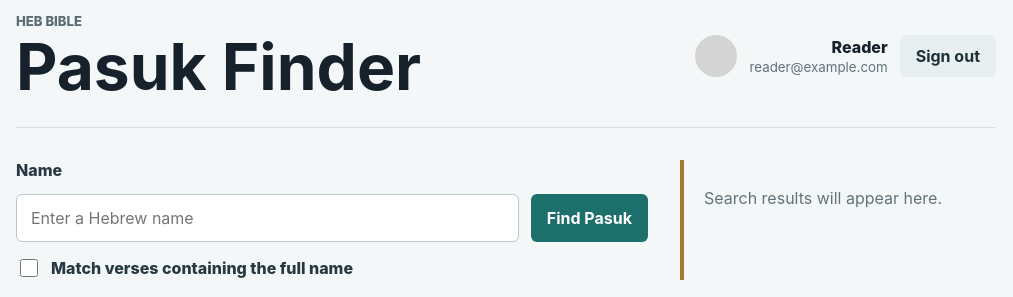
Test: App › shows the authenticated user and signs out
The width and height of the screenshot is (1013, 297).
Click the button with class "secondary-button". click: (948, 56)
box: [900,35,996,77]
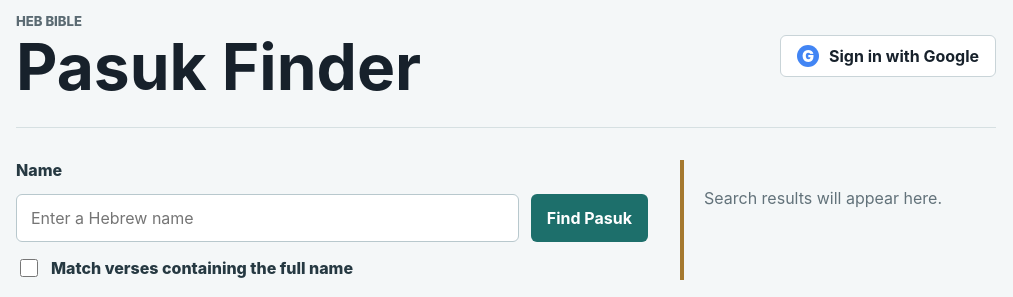
Check: the text "Sign in with Google" is shown, box [780,35,996,77]
